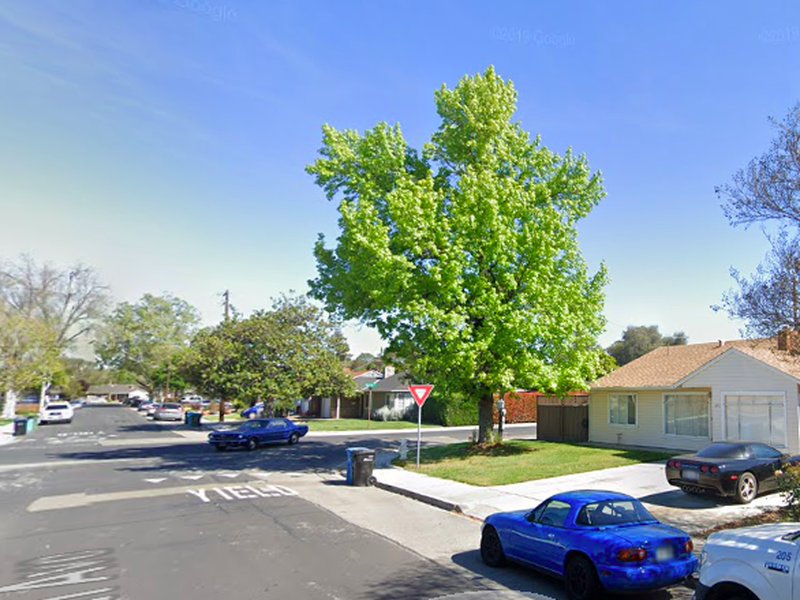tree: (304, 62, 617, 457)
